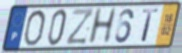0: (46, 7, 69, 47)
6: (115, 8, 135, 45)
H: (86, 6, 119, 46)
O: (22, 9, 47, 48)
T: (140, 8, 160, 43)
Z: (64, 8, 95, 47)
